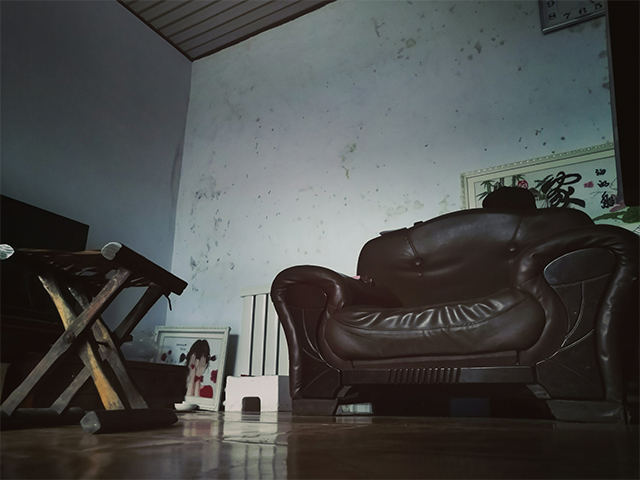sofa: (269, 204, 640, 426)
stool: (1, 240, 190, 436)
